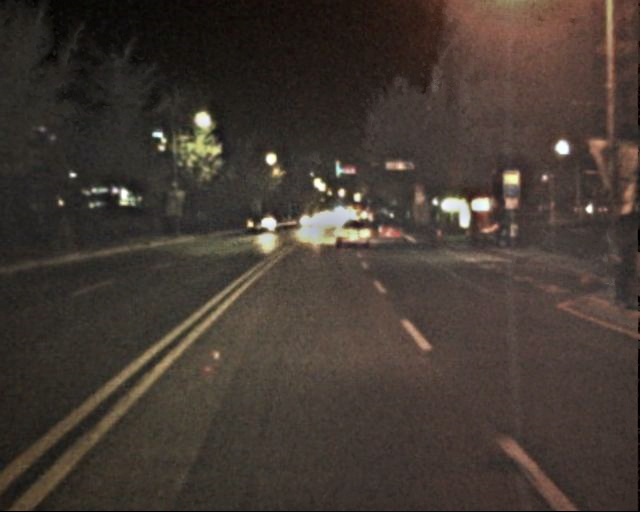person: (593, 225, 629, 313)
